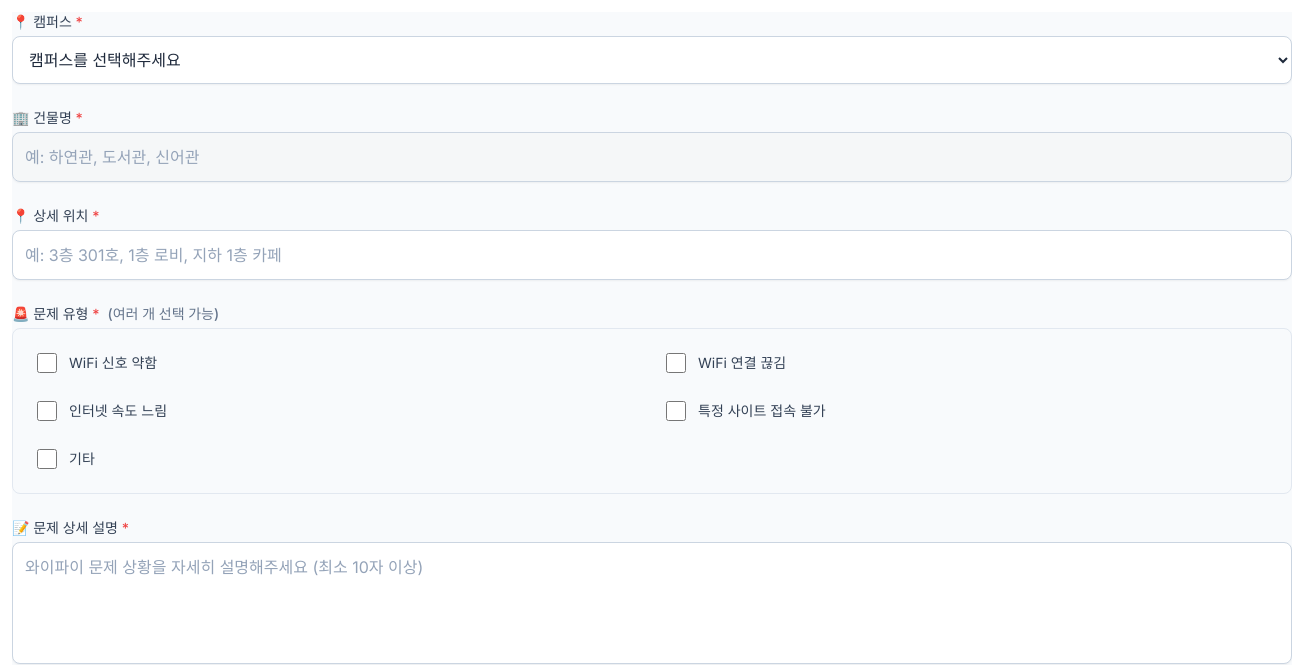
Test: ReportForm › shows custom problem field when 기타 is selected
Click the checkbox labelled "기타" at {"x": 47, "y": 459}, box [37,449,57,469]
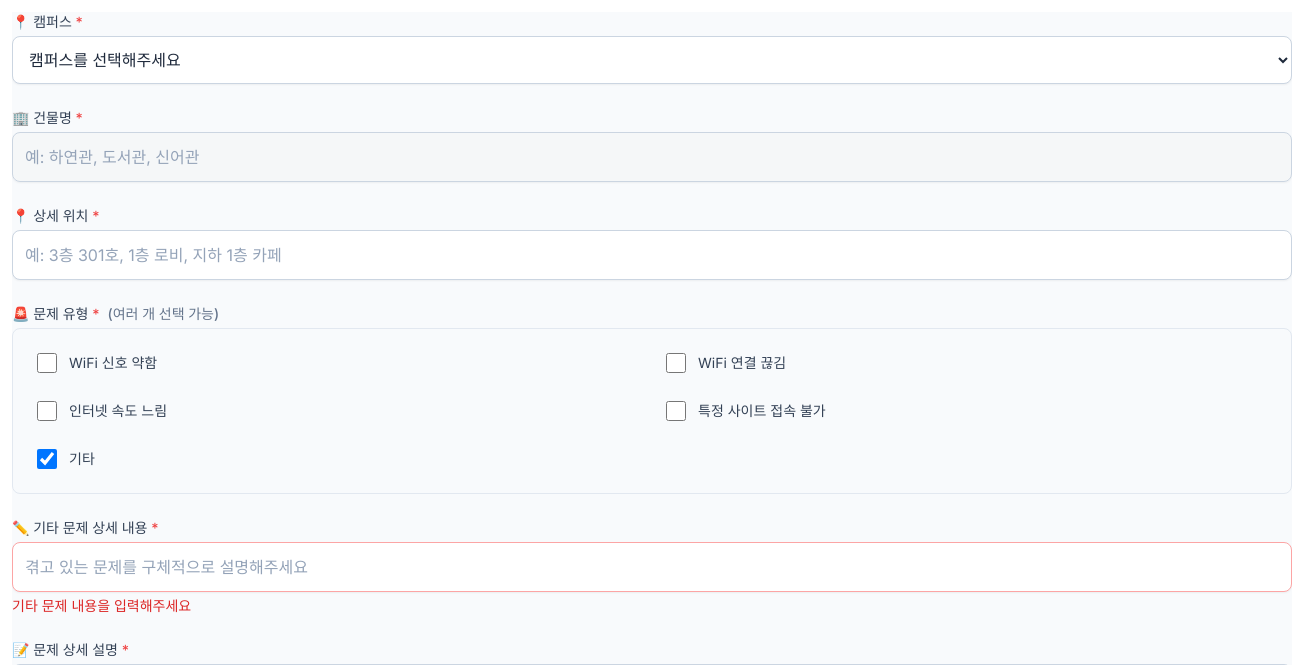
Result: the field labelled "✏️ 기타 문제 상세 내용 *" is shown at [12,542,1292,592]
